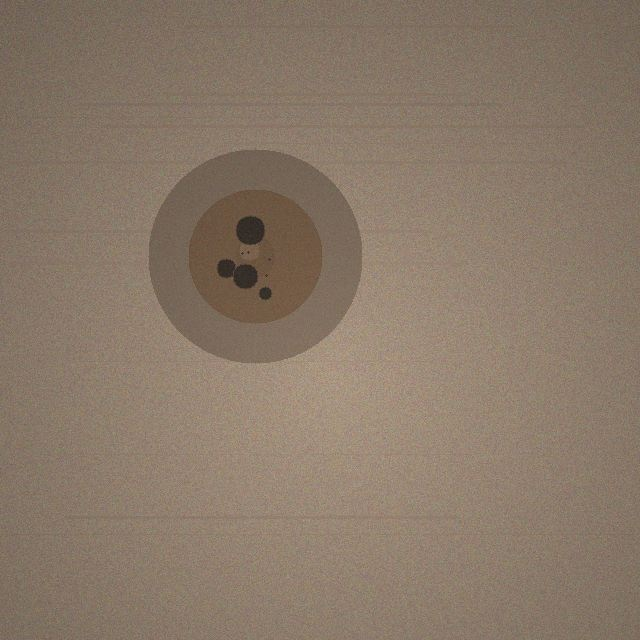shrinkage: (148, 149, 362, 363)
